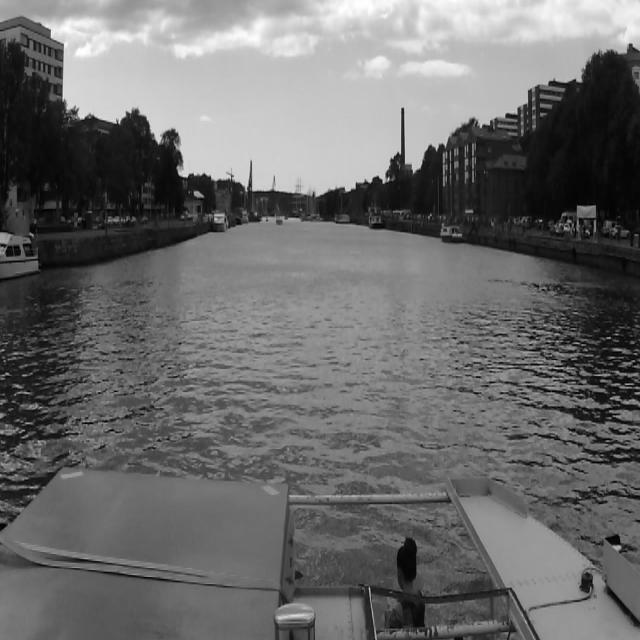ship: (0, 231, 42, 277), (439, 222, 463, 244), (212, 211, 228, 233), (368, 211, 382, 229), (275, 213, 283, 226), (265, 218, 268, 222)
